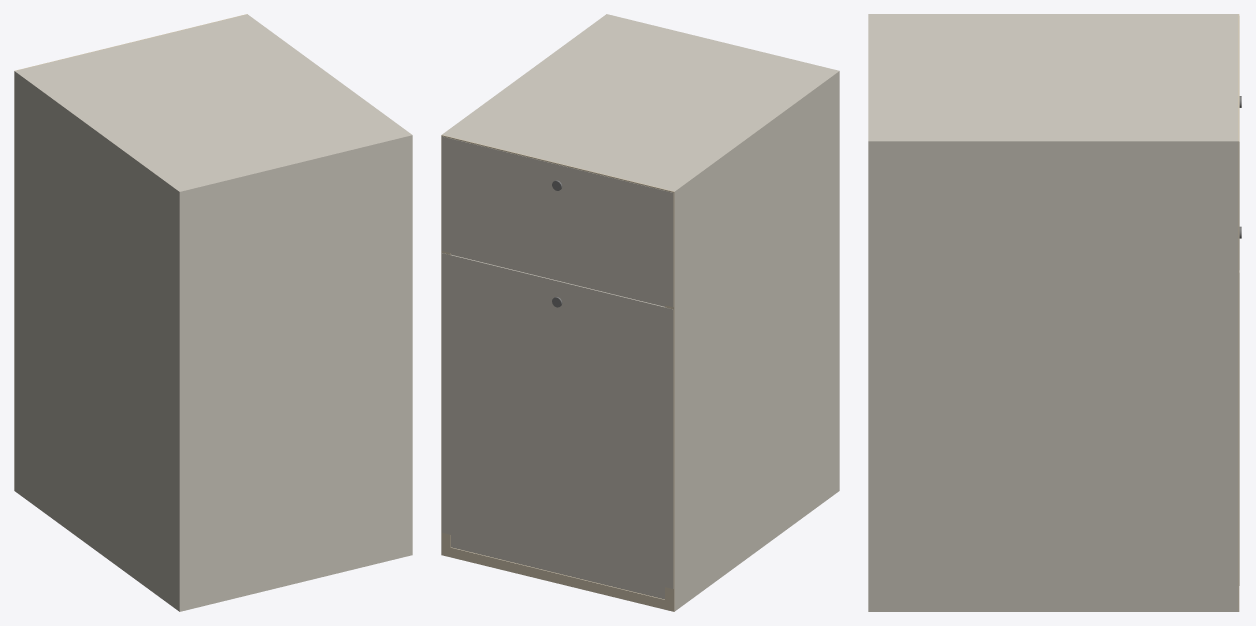
The model's file is v2-real-wardrobe-0.glb.
3 views of the same model, side by side, from view 1: azimuth 30°, elevation 25°; view 2: azimuth 150°, elevation 25°; view 3: azimuth 270°, elevation 25° (orthographic). The views are drawn at different scales.
Bounding box in the file's own units: 450 × 775 × 557.
